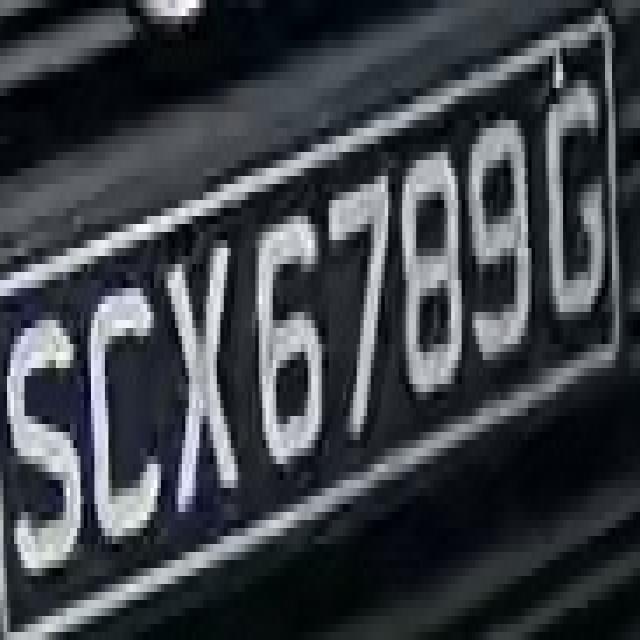6: (248, 208, 336, 504)
7: (315, 152, 402, 448)
8: (388, 136, 472, 424)
9: (458, 96, 539, 368)
C: (74, 248, 164, 552)
G: (535, 48, 609, 328)
S: (7, 256, 87, 584)
X: (150, 200, 242, 528)
